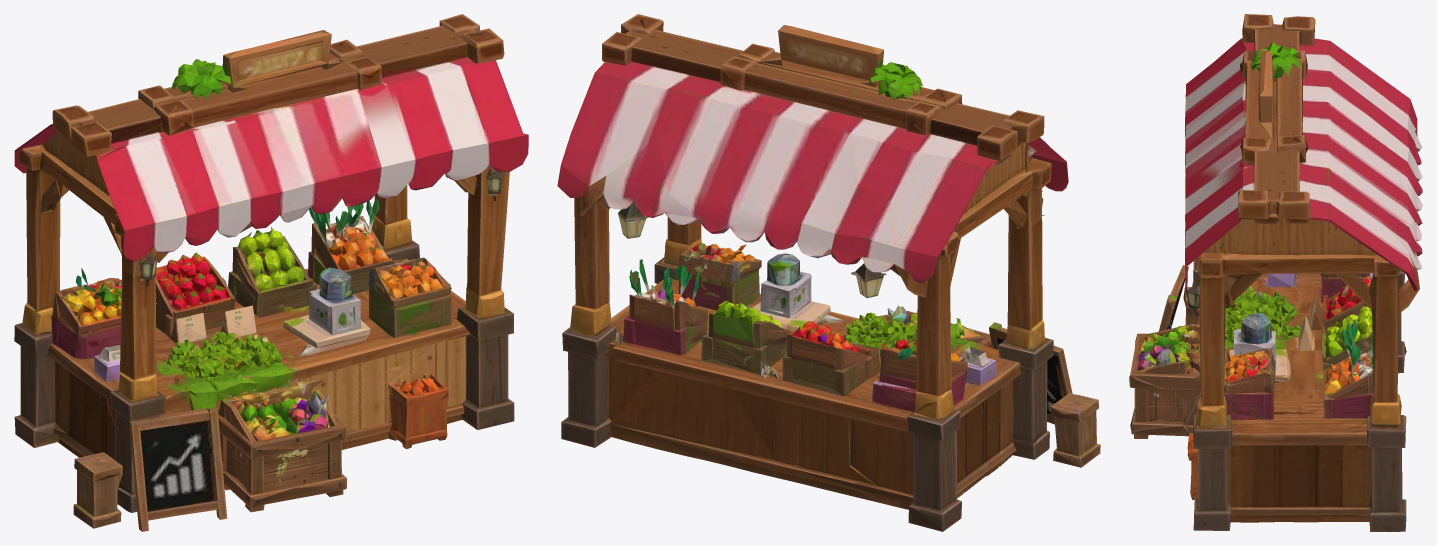
The model's file is market_stall.glb.
The picture shows the model from 3 angles, left to right: view 1: azimuth 30°, elevation 25°; view 2: azimuth 150°, elevation 25°; view 3: azimuth 270°, elevation 25°; orthographic projection. The views are drawn at different scales.
Bounding box in the file's own units: 3.44 × 3 × 2.14.
1 material, 1 textured.
